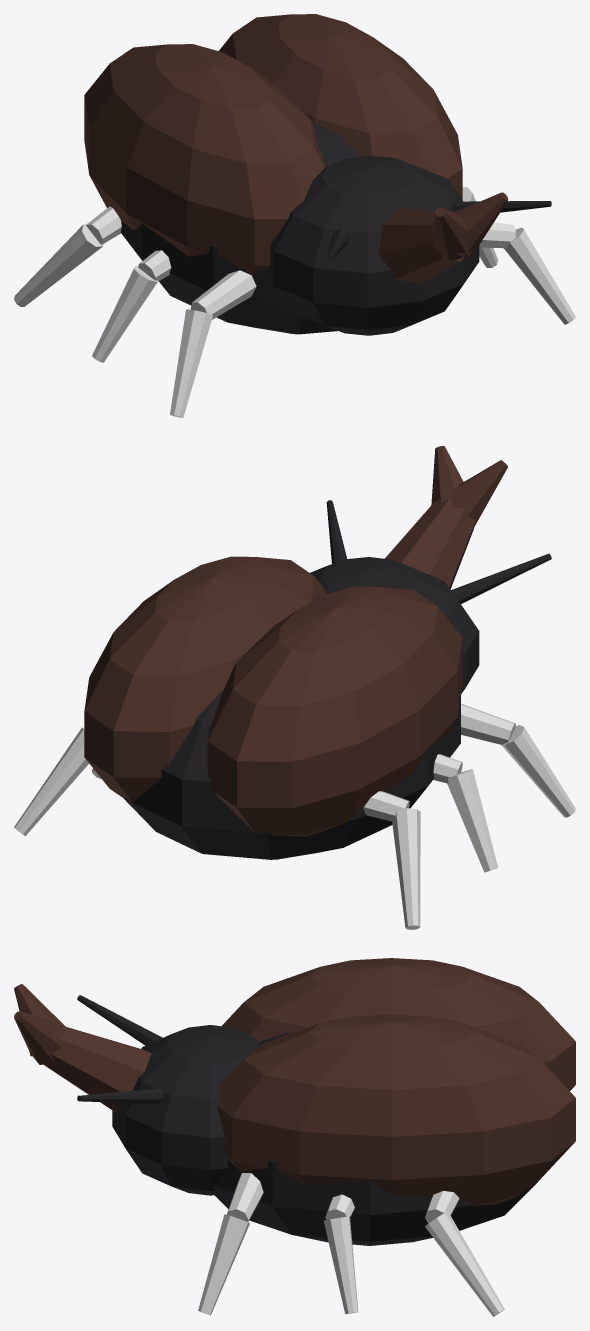
The model's file is rhino_beetle.fbx.
3 renders of one model, top to bottom at view 1: azimuth 30°, elevation 25°; view 2: azimuth 150°, elevation 25°; view 3: azimuth 270°, elevation 25°, orthographic. The views are drawn at different scales.
Visible parts, largest first — view 1: Body, ForeLeft, HindLeft, ForeRight, MidLeft; view 2: Body, ForeLeft, HindLeft, MidLeft, HindRight; view 3: Body, ForeRight, HindRight, MidRight.
Part boxes in pixels (<box>): Body: <box>84,14,551,335</box>; ForeLeft: <box>170,270,256,417</box>; HindLeft: <box>14,206,121,306</box>; ForeRight: <box>479,222,575,324</box>; MidLeft: <box>92,250,171,362</box>; Body: <box>84,446,551,859</box>; ForeLeft: <box>461,703,575,817</box>; HindLeft: <box>363,791,420,929</box>; MidLeft: <box>433,754,498,872</box>; HindRight: <box>14,727,88,835</box>; Body: <box>14,958,575,1245</box>; ForeRight: <box>198,1173,263,1315</box>; HindRight: <box>425,1191,504,1316</box>; MidRight: <box>323,1194,358,1314</box>.
Bounding box in the file's own units: 44.06 × 25.87 × 56.45.
